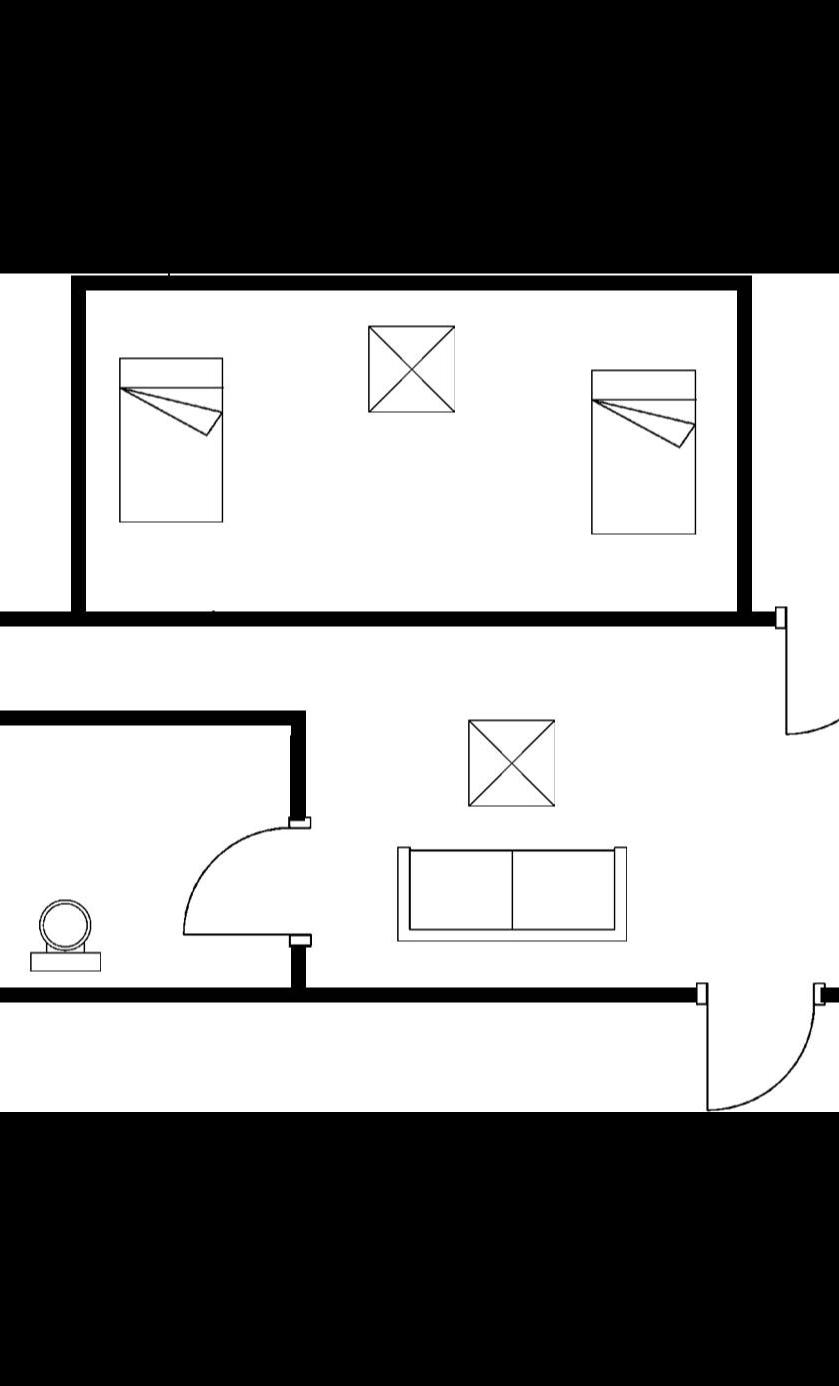bed: (110, 350, 232, 530), (582, 364, 700, 541)
sofa: (386, 840, 632, 953)
toilet: (21, 894, 107, 978)
